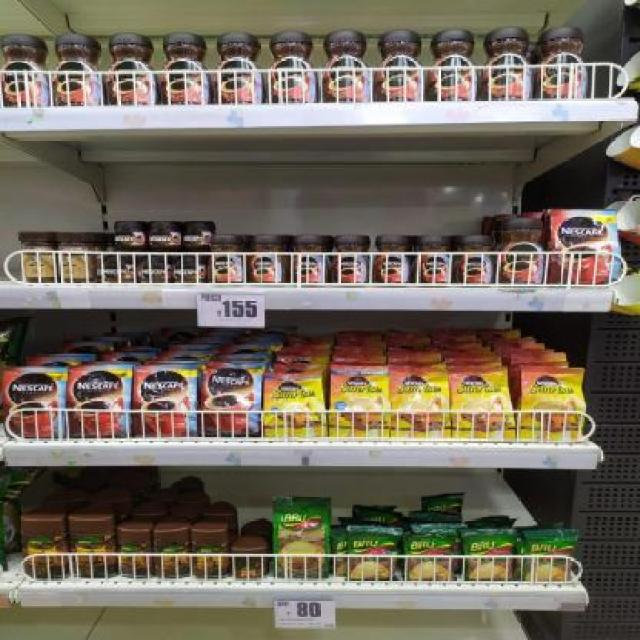Coffee: (519, 369, 583, 442), (553, 211, 616, 281), (4, 371, 67, 440), (451, 373, 511, 441), (329, 366, 386, 437), (70, 369, 128, 438), (138, 372, 198, 438), (482, 28, 536, 101), (390, 374, 447, 441), (376, 29, 429, 100), (268, 31, 320, 103), (323, 29, 374, 102), (158, 34, 211, 104), (54, 36, 106, 107), (428, 29, 479, 100), (207, 372, 262, 437), (3, 34, 51, 108), (216, 32, 264, 105), (538, 29, 588, 99), (107, 33, 155, 105), (497, 218, 548, 285), (264, 380, 322, 437), (286, 236, 328, 287), (372, 236, 414, 286), (331, 235, 369, 287), (414, 236, 454, 284), (455, 237, 494, 286), (247, 236, 284, 287), (209, 236, 245, 286), (99, 251, 133, 284), (137, 255, 172, 282), (113, 220, 145, 249), (179, 222, 213, 249), (147, 221, 180, 248), (178, 255, 208, 282)
